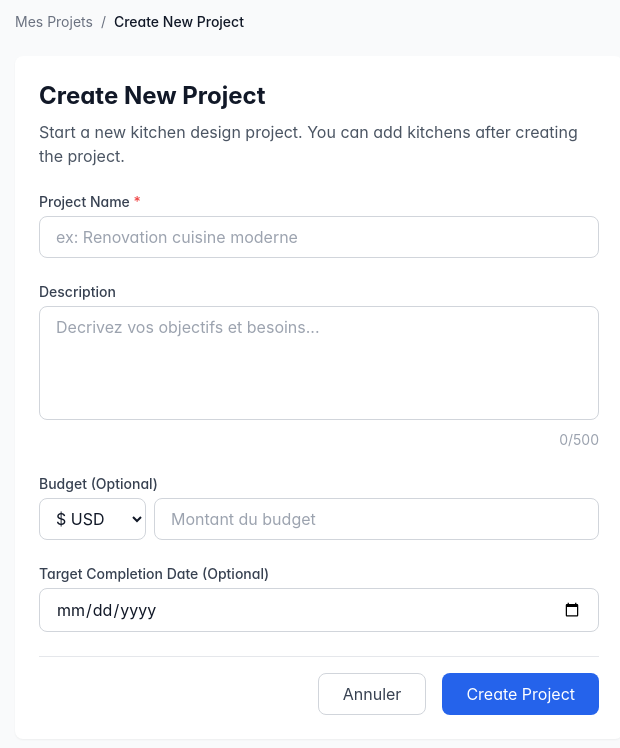
Test: CreateProject › Form Validation › should show error when budget is negative
Fill in a valid name first
Type "Test Kitchen" into the field labelled "Project Name *" at (319, 237), box [39,216,599,258]
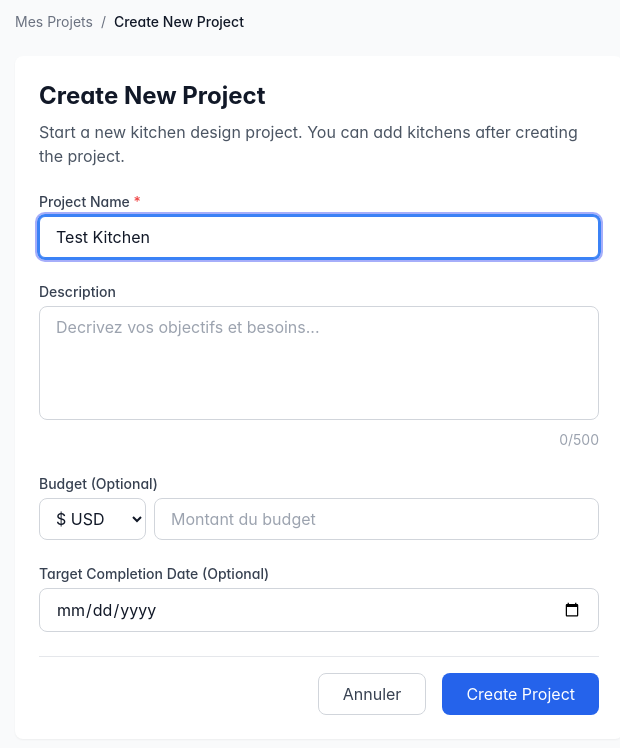
Type "-100" into the number field with placeholder "Montant du budget" at (376, 519), box [154,498,599,540]
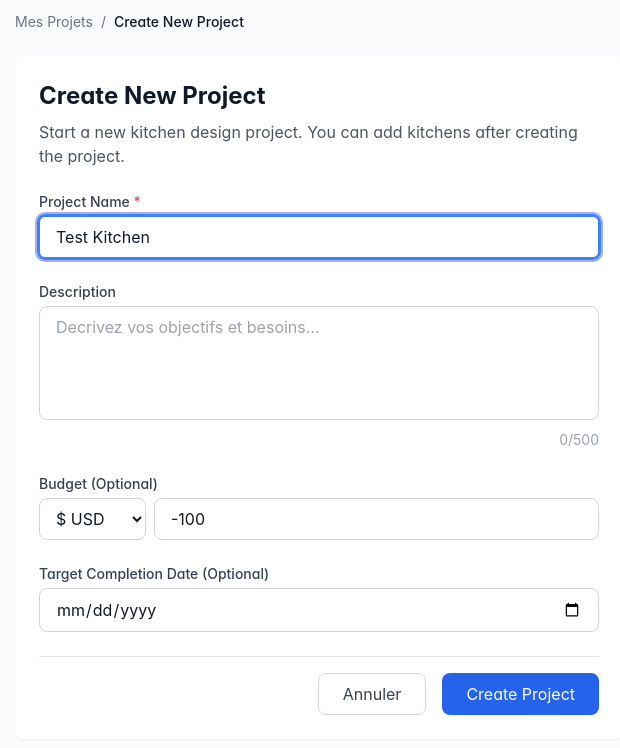
Click the button "Create Project" at (521, 694), box [442,673,599,715]
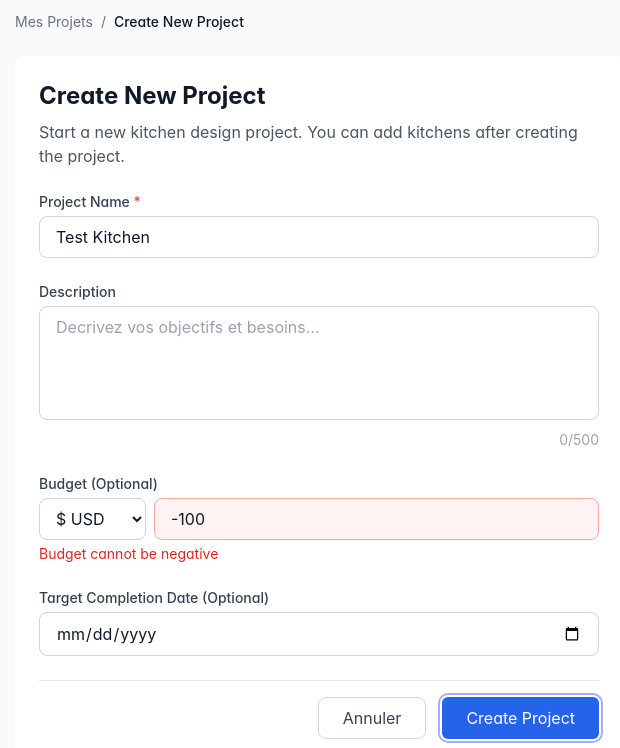
Expected: the text "Budget cannot be negative" is shown, [39,545,218,562]
